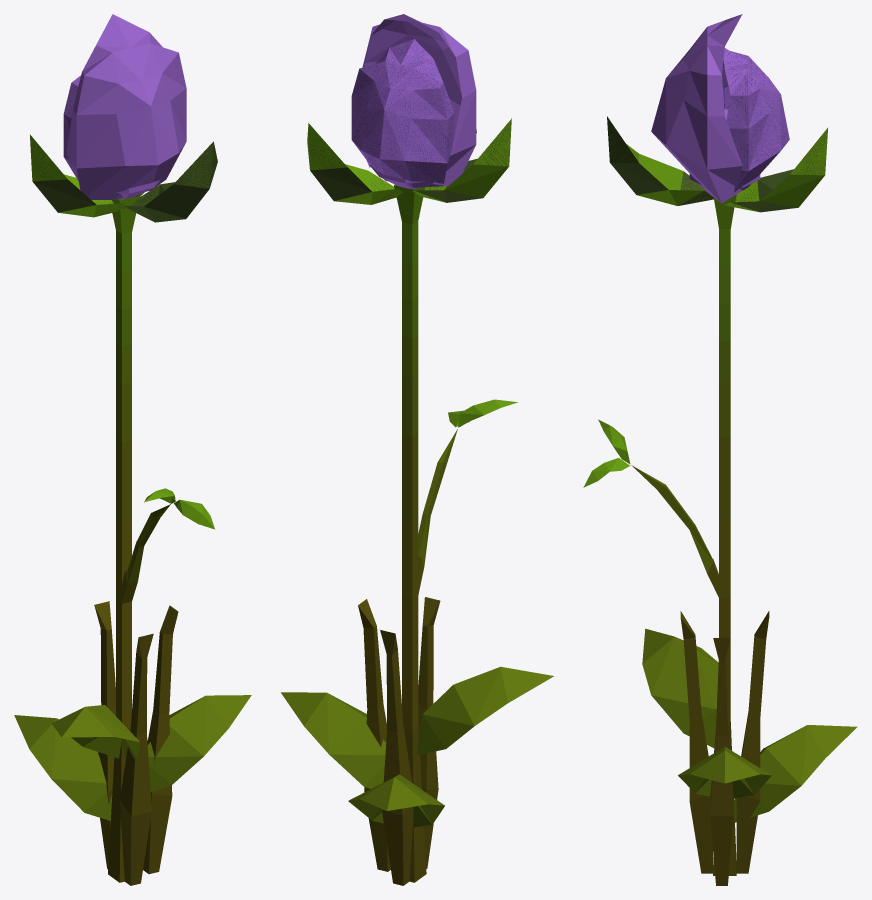
File: npc_world_strange_plant_2_0.obj
3 renders of one model, left to right at view 1: azimuth 30°, elevation 25°; view 2: azimuth 150°, elevation 25°; view 3: azimuth 270°, elevation 25°, orthographic.
Bounding box in the file's own units: 0.7031 × 2.5 × 0.7266.
